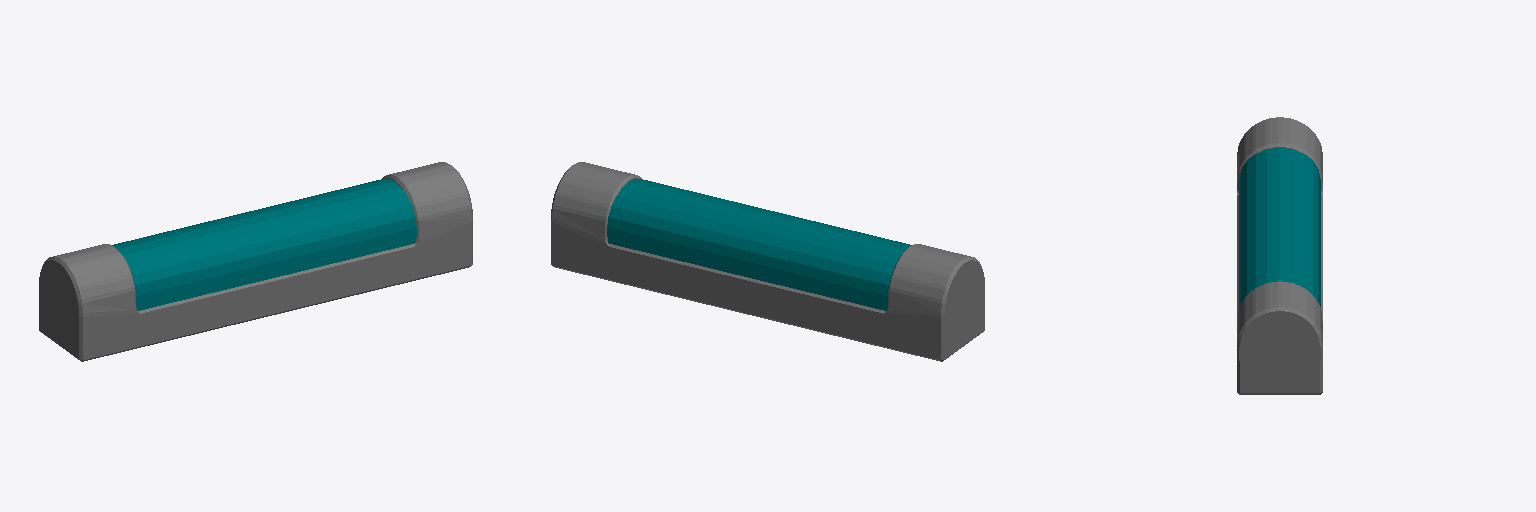
The model's file is Blacklight.obj.
3 views of the same model, side by side, from view 1: azimuth 30°, elevation 25°; view 2: azimuth 150°, elevation 25°; view 3: azimuth 270°, elevation 25° (orthographic).
Parts seen in each view (by area): view 1: pCylinder3, pCylinder5; view 2: pCylinder3, pCylinder5; view 3: pCylinder3, pCylinder5.
Part boxes in pixels (bbox=[...]): pCylinder3: bbox=[39, 162, 472, 361]; pCylinder5: bbox=[112, 178, 416, 310]; pCylinder3: bbox=[551, 162, 984, 361]; pCylinder5: bbox=[607, 178, 911, 310]; pCylinder3: bbox=[1237, 117, 1322, 394]; pCylinder5: bbox=[1239, 148, 1320, 306].
Size of the model in its own units: 10.5 by 2.23 by 2.